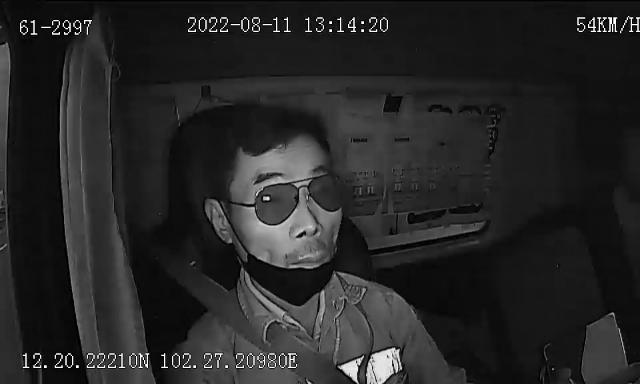SafeDriving: (418, 95, 462, 122), (256, 188, 280, 207)
Seatbelt: (132, 226, 354, 384)
